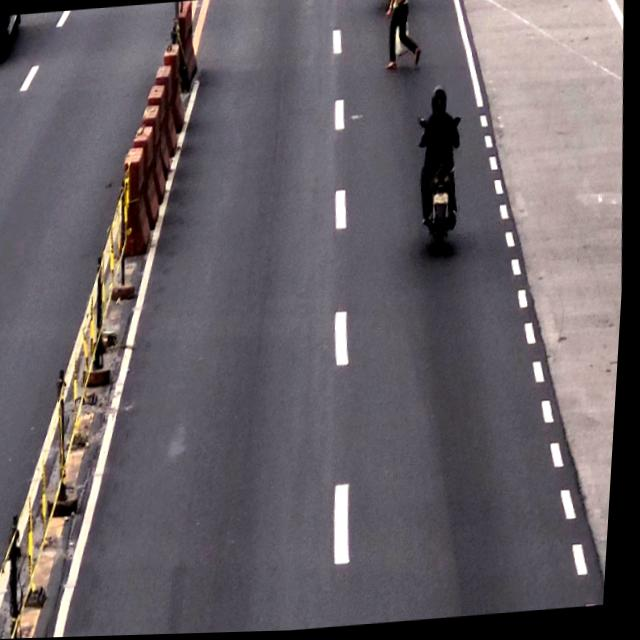Motorcycle: (414, 90, 468, 256)
